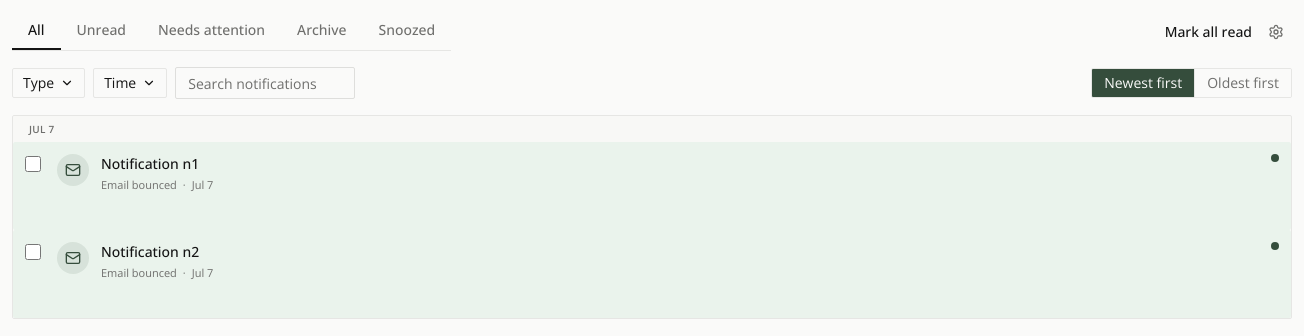
NotificationsPageClient — unified mark-all toggle (STEP 3 / LAW 7) › marks the visible rows read + flips the label, then reverses
This screenshot has width=1304, height=336.
Expected: the number of list items with test id "notification-row" is 2, [13,142,1291,230]; [13,230,1291,318]
Expected: the number of elements with test id "notification-read-dot" is 2, [1271,154,1279,162]; [1271,242,1279,250]
// Click → visible rows become read AND the label flips to "Mark all unread".
Click the button with test id "mark-all-toggle" at (1208, 32), box [1165,22,1252,42]
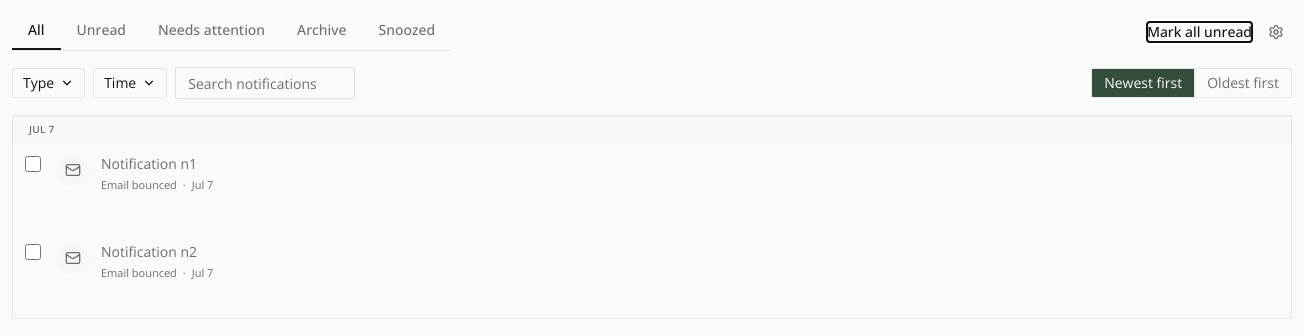
Expected: the button with test id "mark-all-toggle" reads "Mark all unread"
Expected: no elements with test id "notification-read-dot" are shown
// Click again → reverses: rows unread, label back to "Mark all read".
Click the button with test id "mark-all-toggle" at (1200, 32), box [1147,22,1252,42]
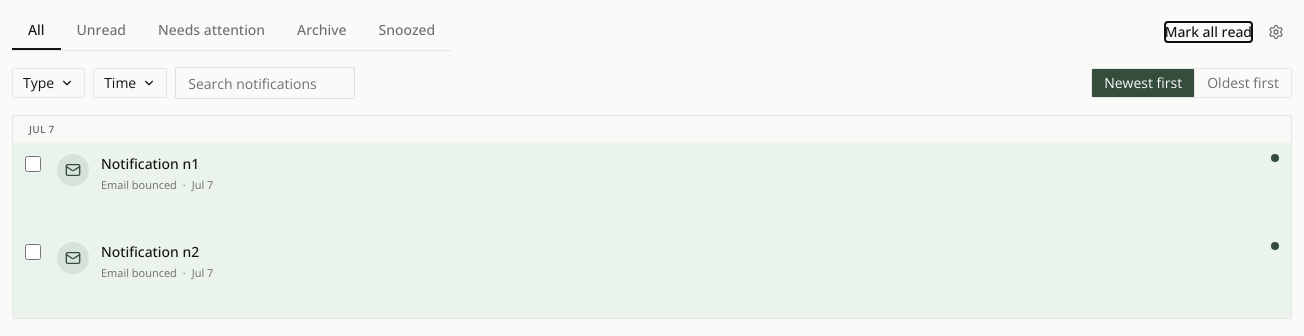
Expected: the button with test id "mark-all-toggle" reads "Mark all read", [1165,22,1252,42]
Expected: the number of elements with test id "notification-read-dot" is 2, [1271,154,1279,162]; [1271,242,1279,250]
